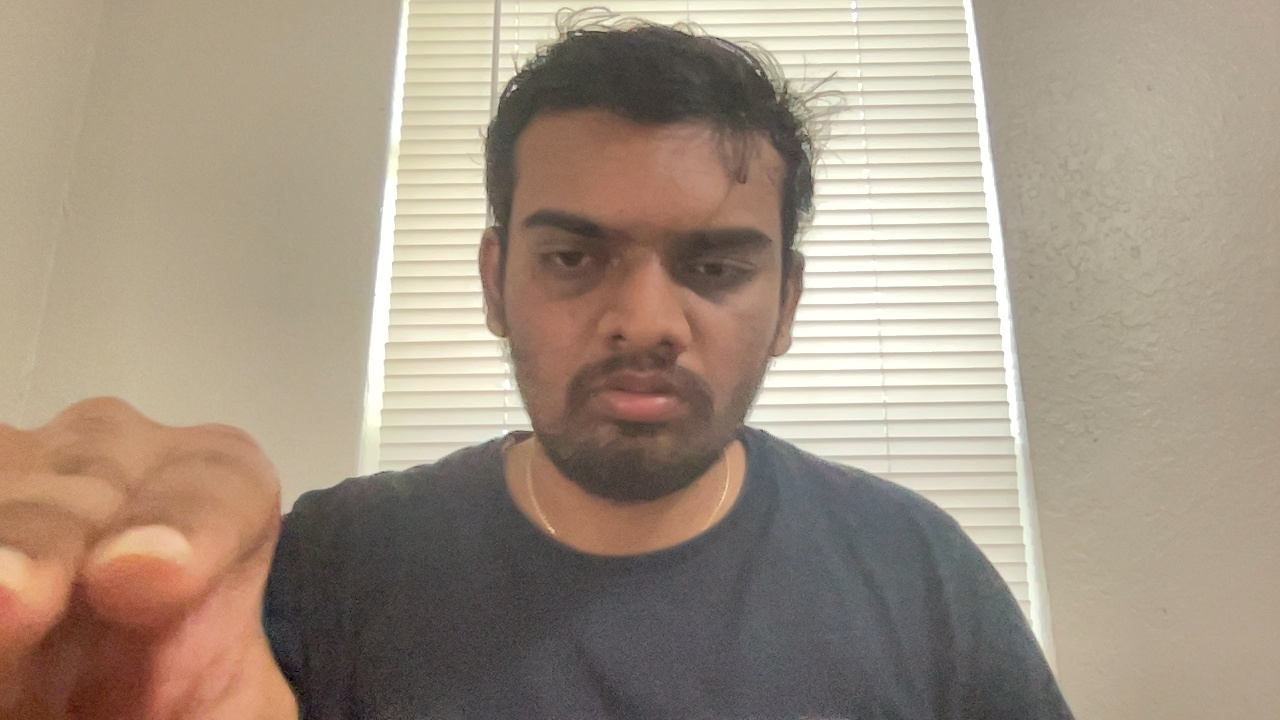no: (1, 393, 295, 720)
